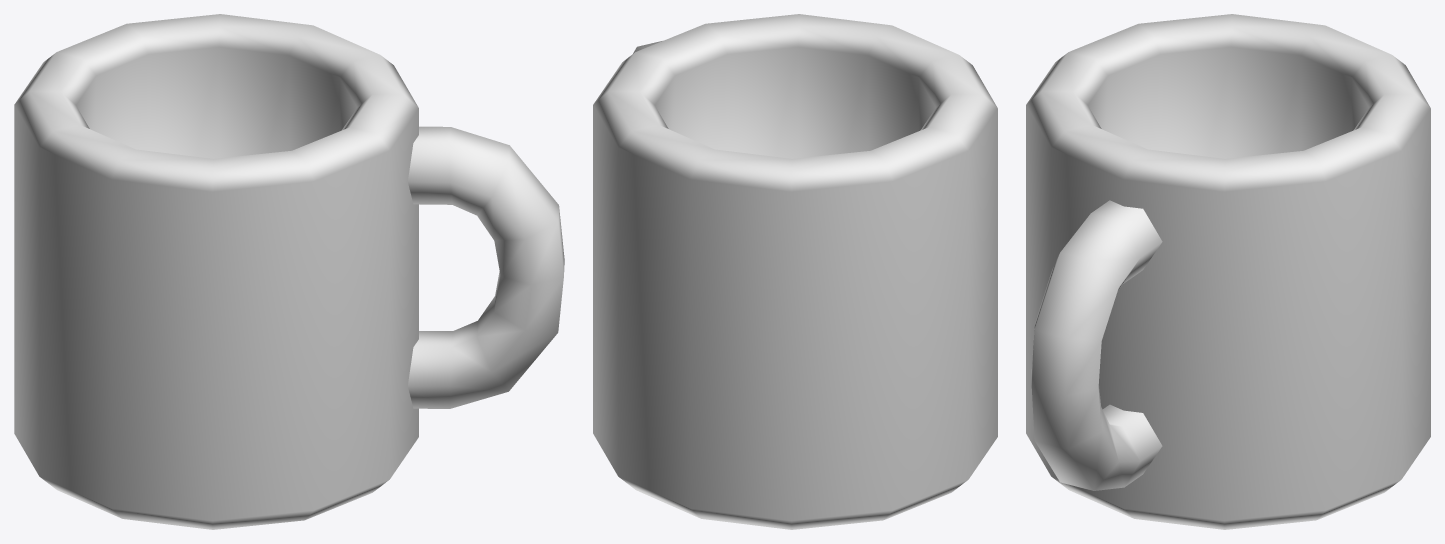
File: prop_021.fbx
3 renders of one model, left to right at view 1: azimuth 30°, elevation 25°; view 2: azimuth 150°, elevation 25°; view 3: azimuth 270°, elevation 25°, orthographic.
Visible parts, largest first — view 1: prop_021; view 2: prop_021; view 3: prop_021.
Part boxes in pixels (box(x1,y1,x2,y2)): prop_021: box(14, 14, 564, 529); prop_021: box(593, 14, 997, 529); prop_021: box(1026, 14, 1430, 529).
Size of the model in its own units: 20.6 by 16.34 by 16.04.
